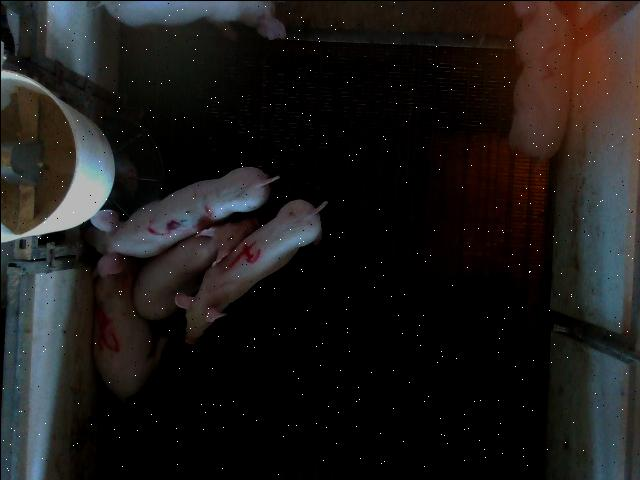pig-1: (99, 0, 285, 39)
pig-2: (509, 2, 572, 159)
pig-3: (84, 167, 278, 273)
pig-4: (175, 199, 326, 342)
pig-5: (94, 256, 168, 402)
